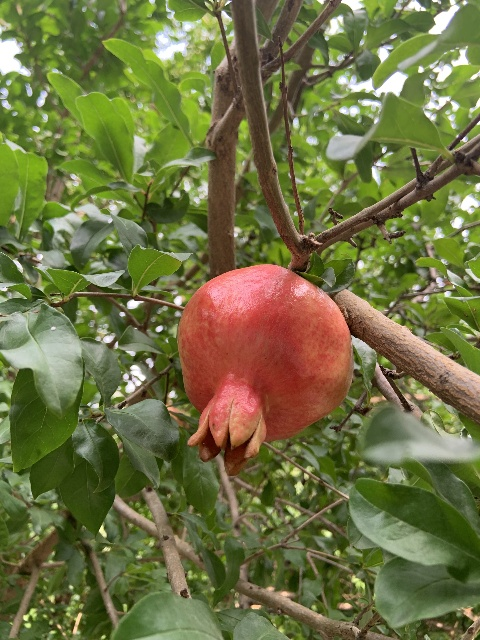ripe: (176, 264, 353, 476)
